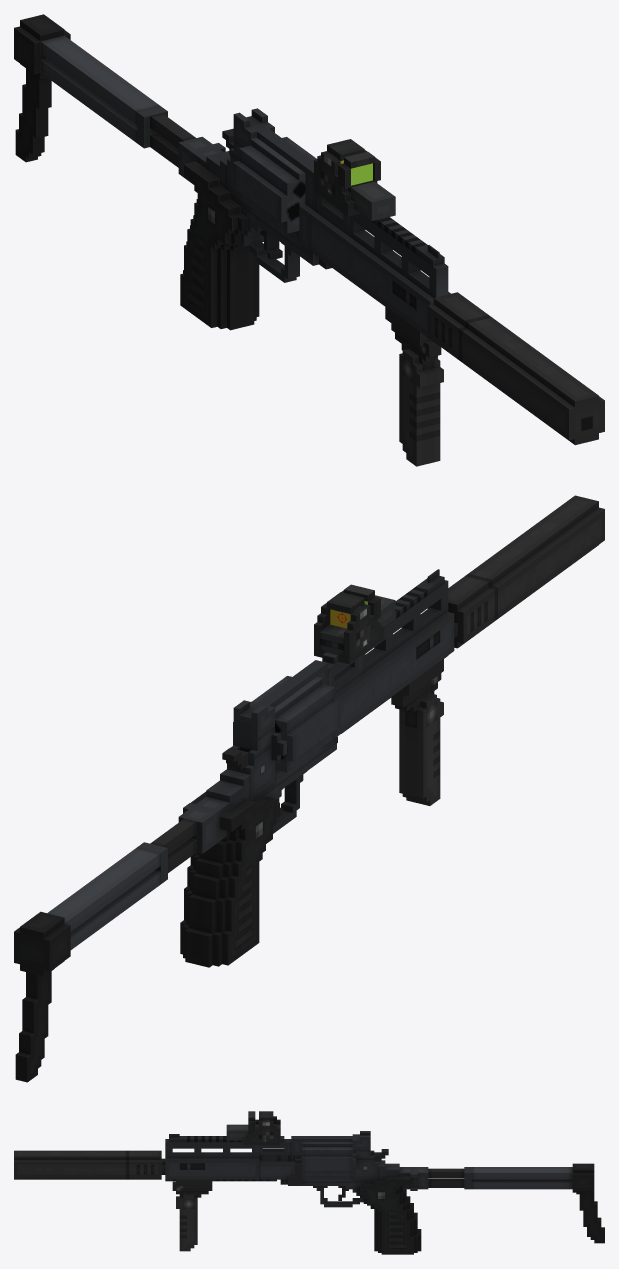
File: RD_RSH12_ANARCHY.glb
3 views of the same model, one above another, from view 1: azimuth 30°, elevation 25°; view 2: azimuth 150°, elevation 25°; view 3: azimuth 270°, elevation 25° (orthographic). The views are drawn at different scales.
Visible parts, largest first — view 1: RSH12, RSH12_STOCK_P2, RSH12_SILENCER, GRIP4, RSH12_CLIP_P2, SCOPE_EOTECH, SCOPE_AIMPOINT; view 2: RSH12, RSH12_STOCK_P2, RSH12_SILENCER, GRIP4, RSH12_CLIP_P2, SCOPE_EOTECH; view 3: RSH12, RSH12_STOCK_P2, RSH12_SILENCER, RSH12_CLIP_P2, GRIP4, SCOPE_EOTECH, RSH12_CLIP_P1.
Part boxes in pixels (x1,y1,x2,y2): RSH12: (180,108,450,343); RSH12_STOCK_P2: (14,14,221,183); RSH12_SILENCER: (427,292,604,445); GRIP4: (385,306,443,466); RSH12_CLIP_P2: (233,137,316,236); SCOPE_EOTECH: (314,139,395,221); SCOPE_AIMPOINT: (338,151,380,193); RSH12: (180,569,457,967); RSH12_STOCK_P2: (14,805,216,1082); RSH12_SILENCER: (427,495,604,648); GRIP4: (391,659,443,805); RSH12_CLIP_P2: (233,676,340,775); SCOPE_EOTECH: (314,592,395,664); RSH12: (161,1131,421,1254); RSH12_STOCK_P2: (414,1163,604,1243); RSH12_SILENCER: (14,1150,161,1179); RSH12_CLIP_P2: (302,1142,352,1176); GRIP4: (172,1179,212,1251); SCOPE_EOTECH: (226,1111,280,1145); RSH12_CLIP_P1: (262,1155,302,1180).
Size of the model in its own units: 0.0984 by 0.4034 by 1.61.
Materials: 8 (8 with a texture image).
